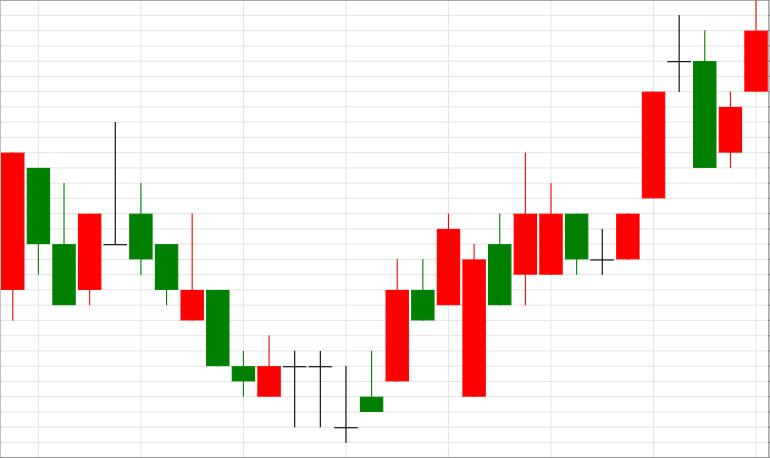evening_star_fall: (462, 15, 716, 397)
